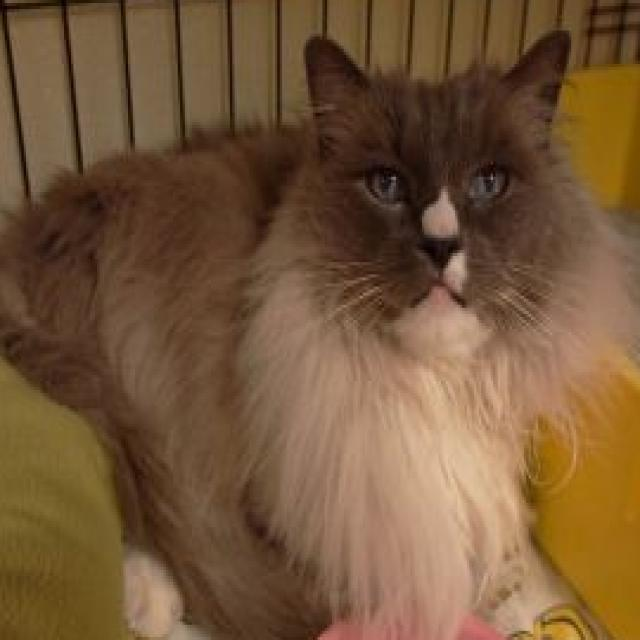Ragdoll: (0, 18, 626, 640)
